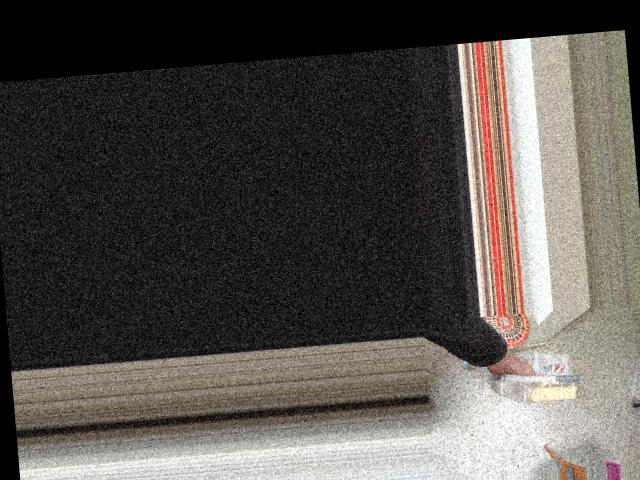cheese: (492, 350, 583, 416)
